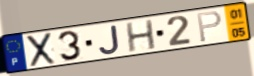2: (165, 14, 194, 48)
3: (57, 29, 84, 63)
H: (124, 18, 158, 54)
J: (97, 24, 122, 56)
P: (195, 10, 224, 44)
X: (26, 31, 57, 69)
